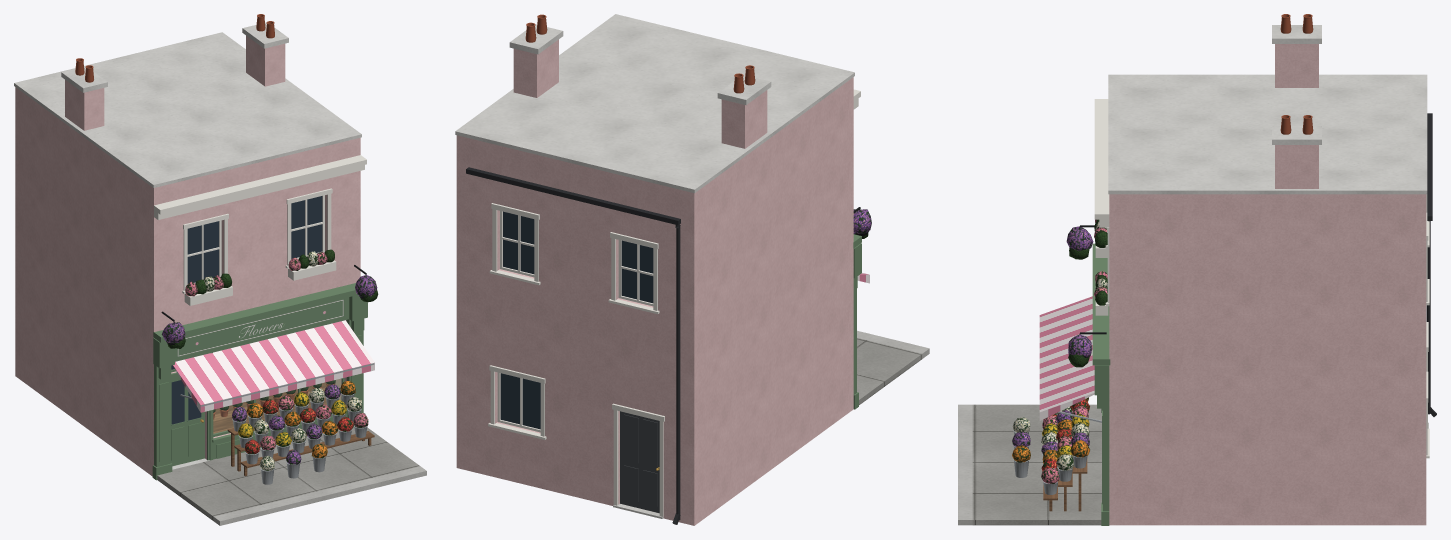
Rendered from florist.glb.
3 views of the same model, side by side, from view 1: azimuth 30°, elevation 25°; view 2: azimuth 150°, elevation 25°; view 3: azimuth 270°, elevation 25° (orthographic). The views are drawn at different scales.
Visible parts, largest first — view 1: Florist; view 2: Florist; view 3: Florist.
Boxes of the visible parts, x1,y1,x2,y2 form: Florist: (14, 14, 426, 525); Florist: (455, 14, 929, 525); Florist: (958, 14, 1436, 525).
Bounding box in the file's own units: 5.73 × 9.08 × 9.82.
Materials: 29 (17 with a texture image).
